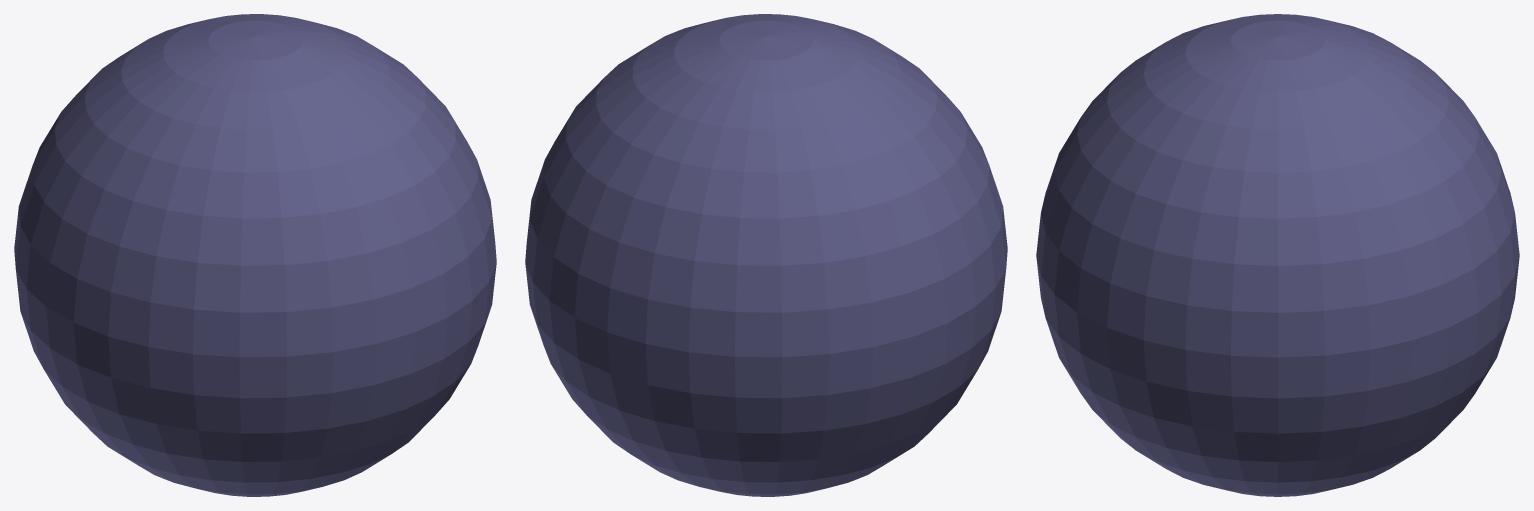
The model's file is sora_2.fbx.
The picture shows the model from 3 angles, left to right: view 1: azimuth 30°, elevation 25°; view 2: azimuth 150°, elevation 25°; view 3: azimuth 270°, elevation 25°; orthographic projection.
Parts seen in each view (by area): view 1: sora; view 2: sora; view 3: sora.
Part boxes in pixels (box(x1,y1,x2,y2)): sora: box(14, 14, 496, 496); sora: box(525, 14, 1007, 496); sora: box(1036, 14, 1519, 496).
Bounding box in the file's own units: 11549 × 11549 × 11549.
Materials: 1 (1 with a texture image).
